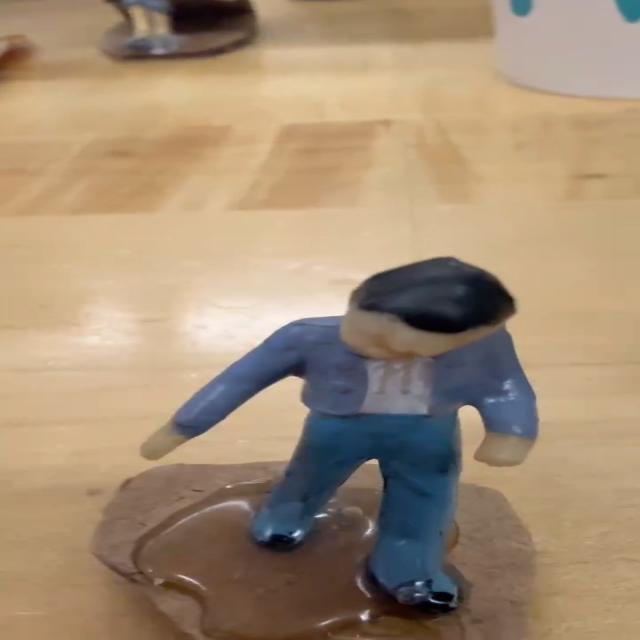Authorized: (111, 241, 570, 626)
